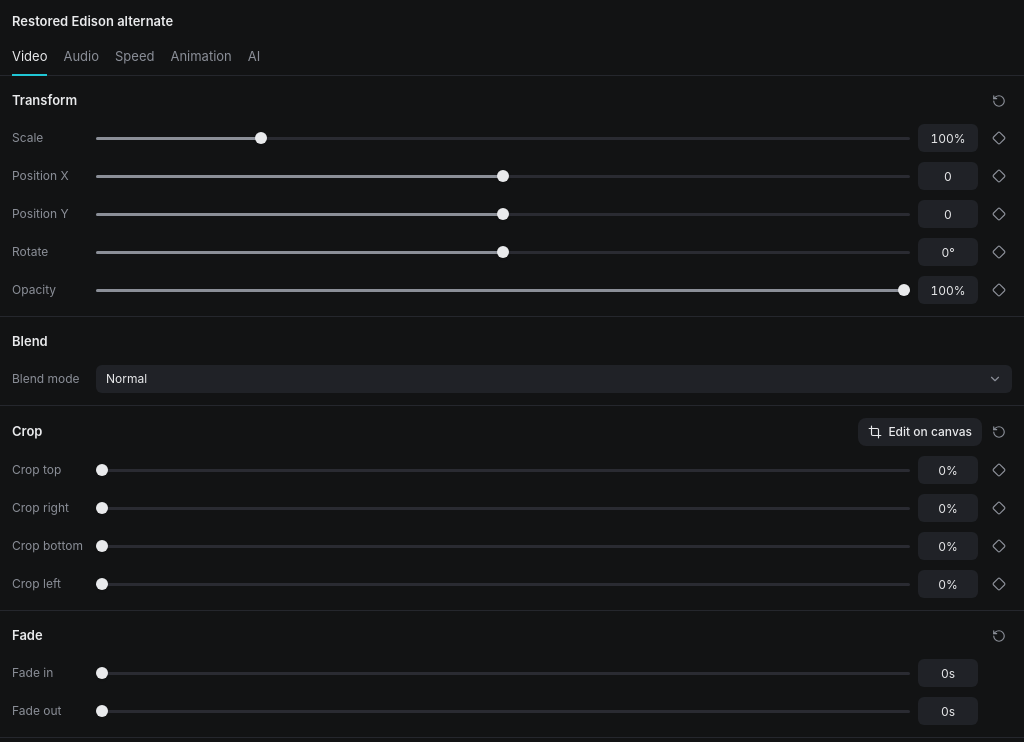
it: clip AI tab › shows the generated details for the fixture generated clip
This screenshot has width=1024, height=742.
Step 1. Press the mouse on the tab "AI" → (254,58), box [248, 40, 260, 76]
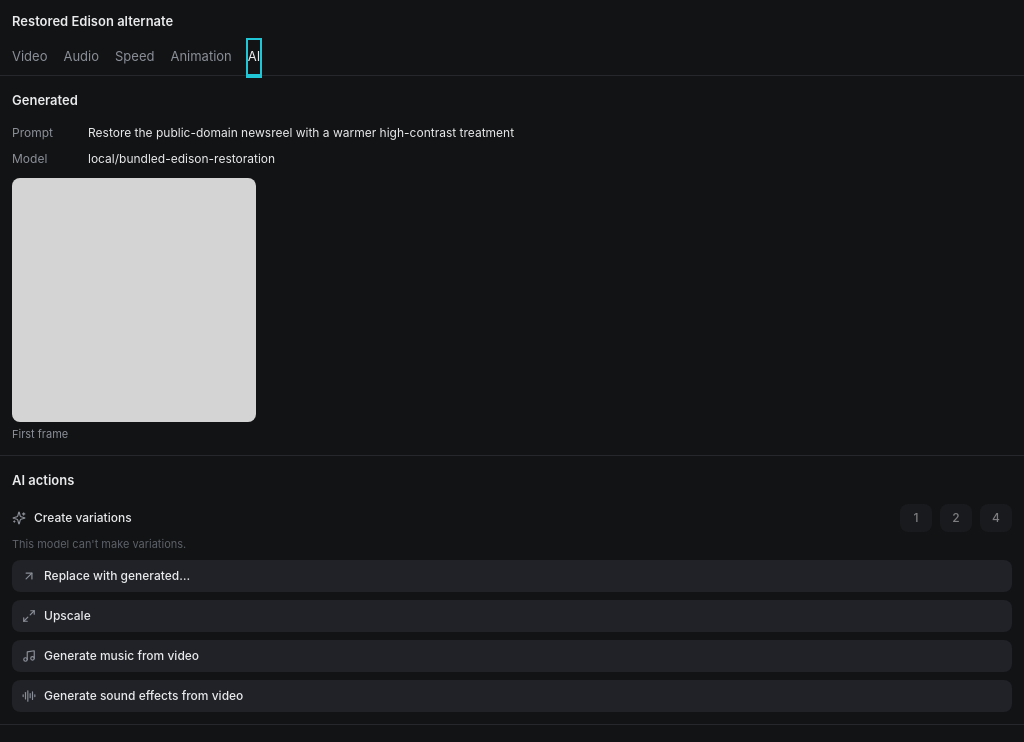
Expected: the element "Generated" shows "Restore the public-domain newsreel with a warmer high-contrast treatment", [88, 125, 514, 140]
Expected: the element "Generated" shows "local/bundled-edison-restoration", [88, 151, 275, 166]
Expected: the element "AI actions" shows "This model can't make variations.", [12, 536, 186, 550]
